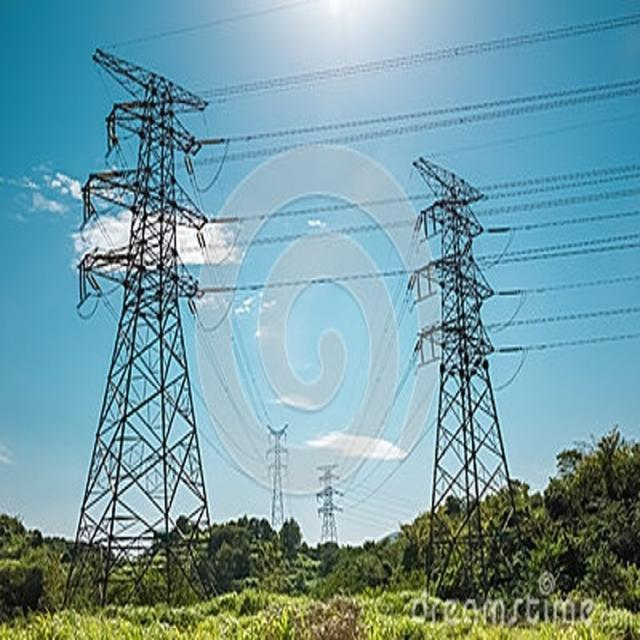non-critical vegetation: (59, 33, 231, 604), (404, 140, 534, 598), (258, 416, 297, 543), (307, 458, 347, 554)
